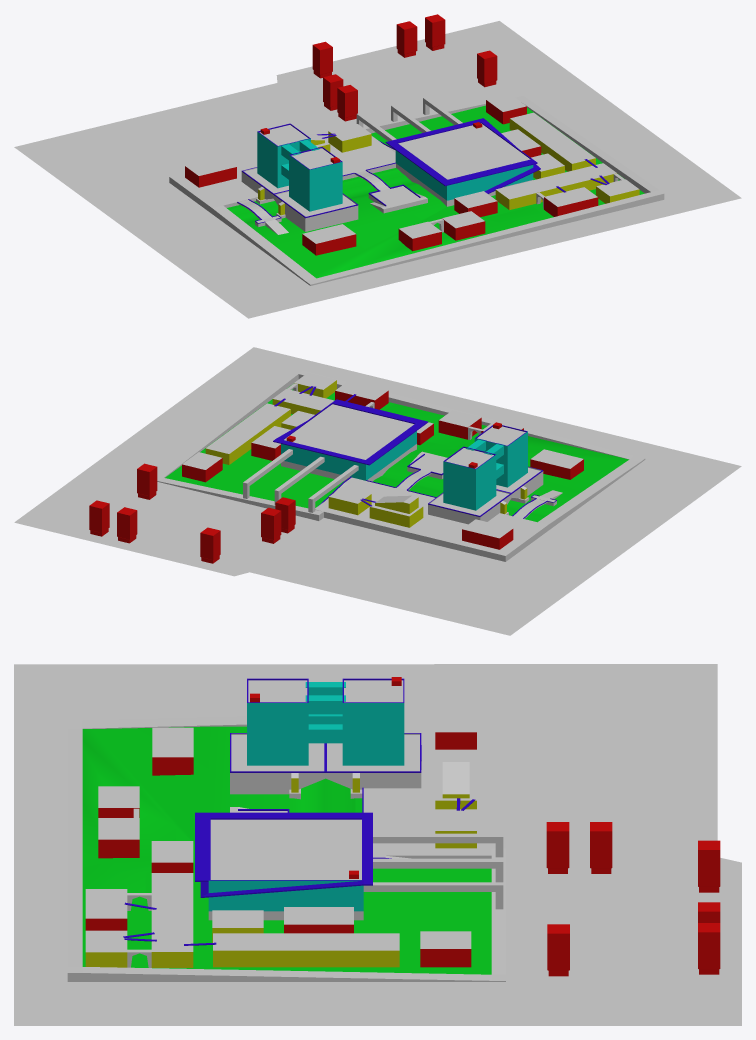
File: TownA003.fbx
3 views of the same model, one above another, from view 1: azimuth 30°, elevation 25°; view 2: azimuth 150°, elevation 25°; view 3: azimuth 270°, elevation 25° (orthographic). The views are drawn at different scales.
Parts seen in each view (by area): view 1: pCube2; view 2: pCube2; view 3: pCube2.
Boxes of the visible parts, x1,y1,x2,y2 form: pCube2: [14, 14, 741, 318]; pCube2: [14, 347, 741, 635]; pCube2: [14, 664, 741, 1025].
Size of the model in its own units: 58566 by 49820 by 7175.
